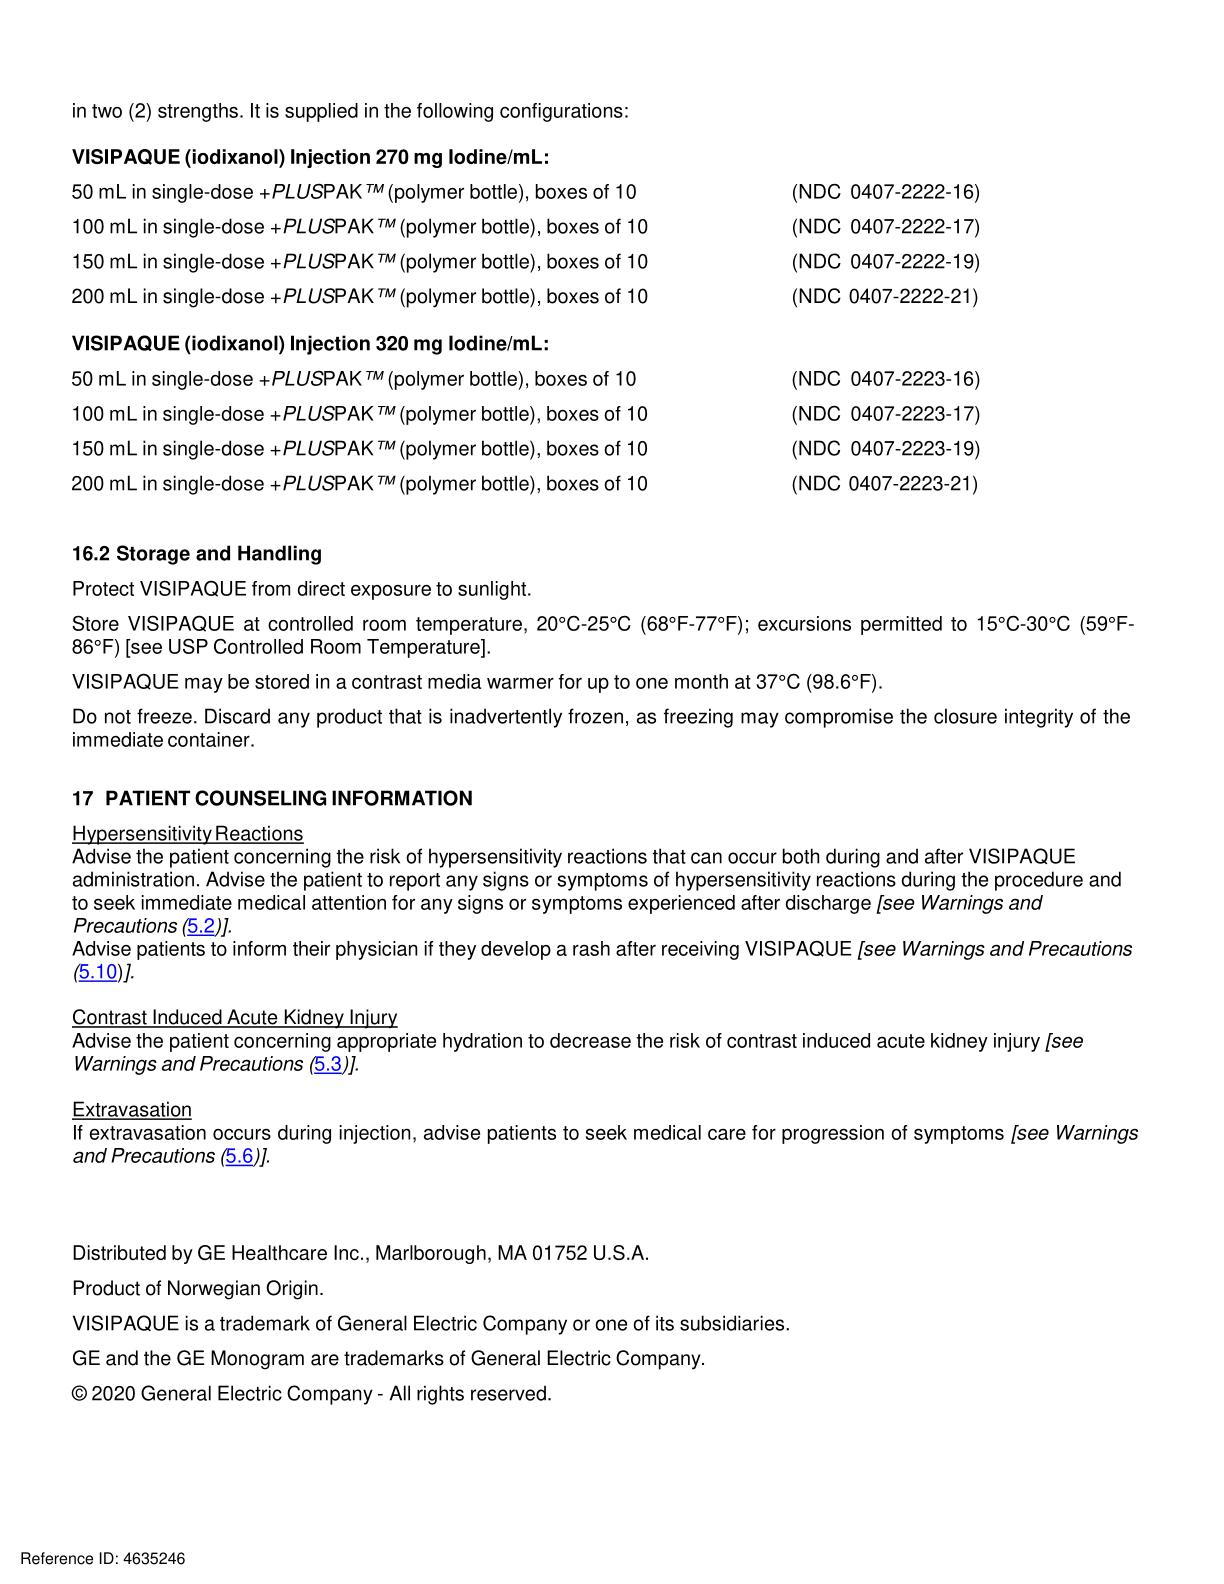nolines: (69, 144, 987, 500)
